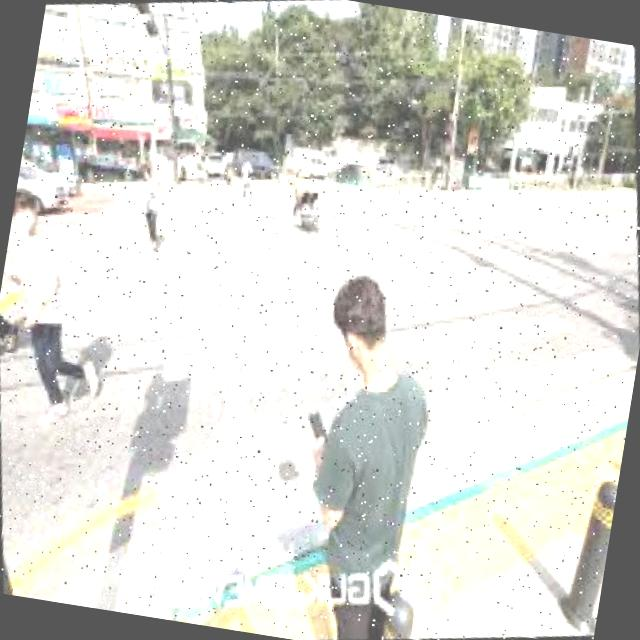Person: (249, 245, 490, 640), (0, 176, 138, 439), (122, 157, 176, 255), (275, 160, 318, 233)
